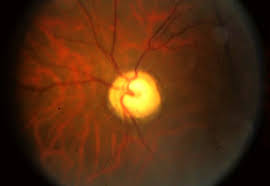Glaucoma section-1: (134, 84, 151, 109)
Glaucoma section-2: (108, 70, 162, 120)
